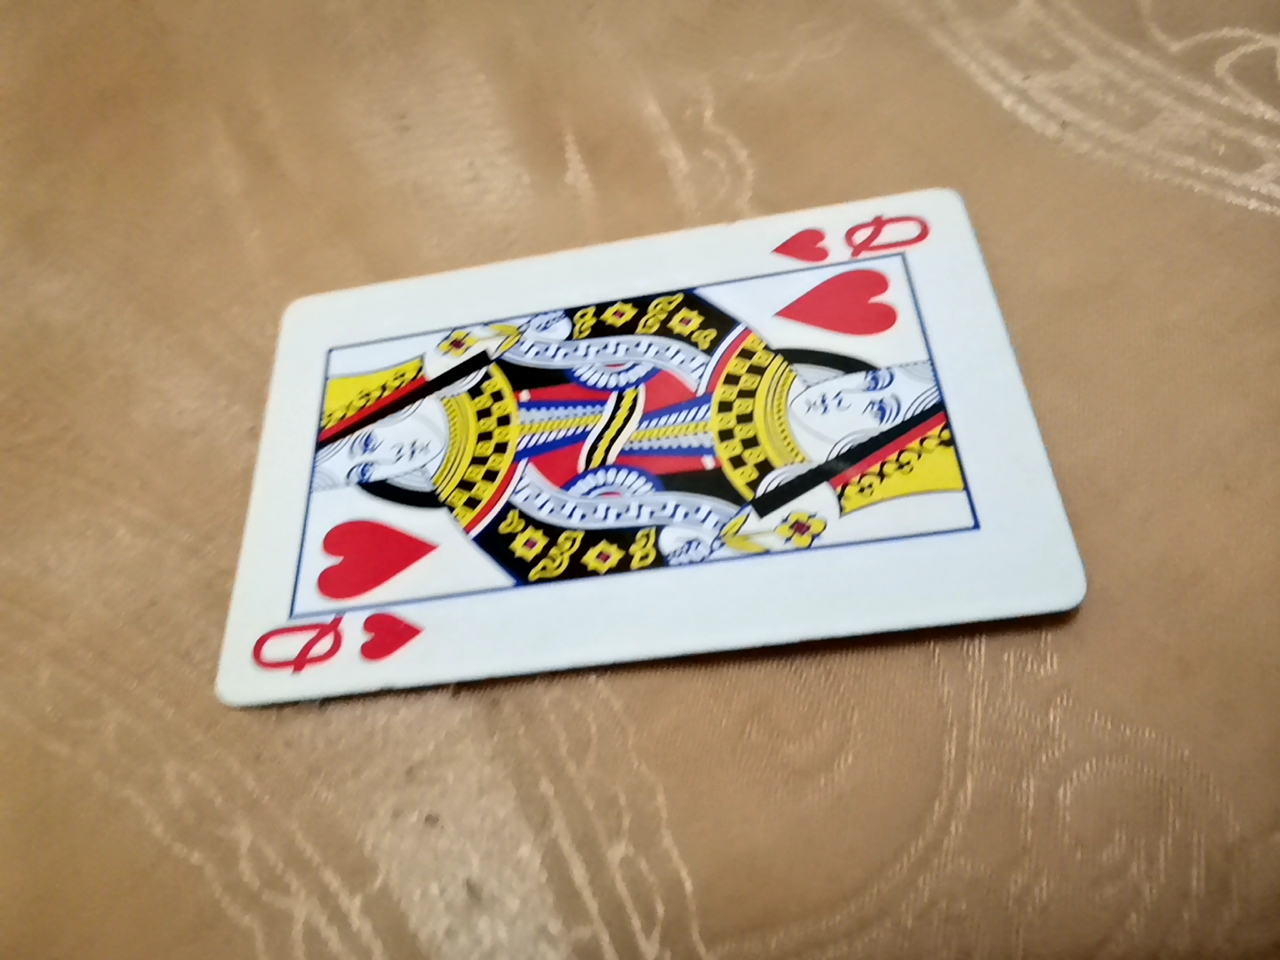hx q: (204, 211, 1094, 748)
